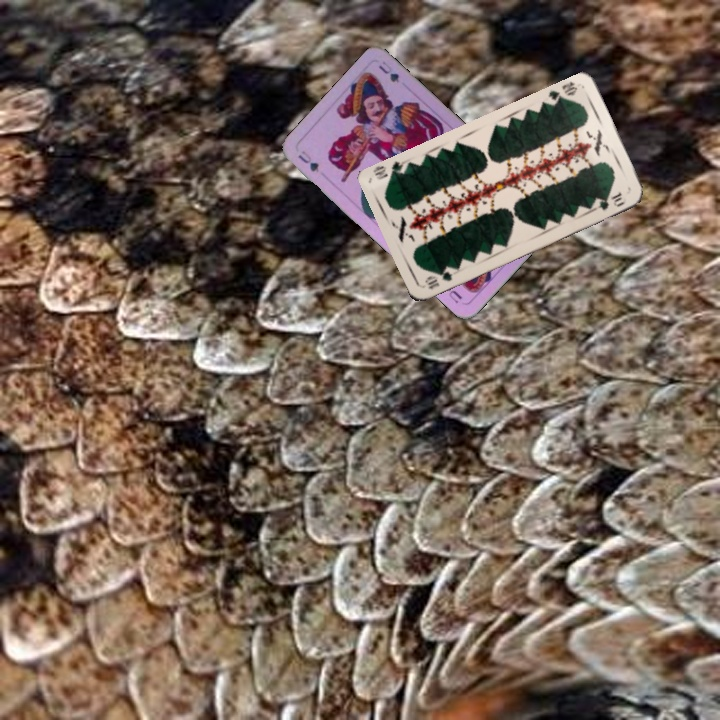G10: (544, 78, 580, 108), (421, 267, 455, 292)
GU: (294, 146, 321, 175)
